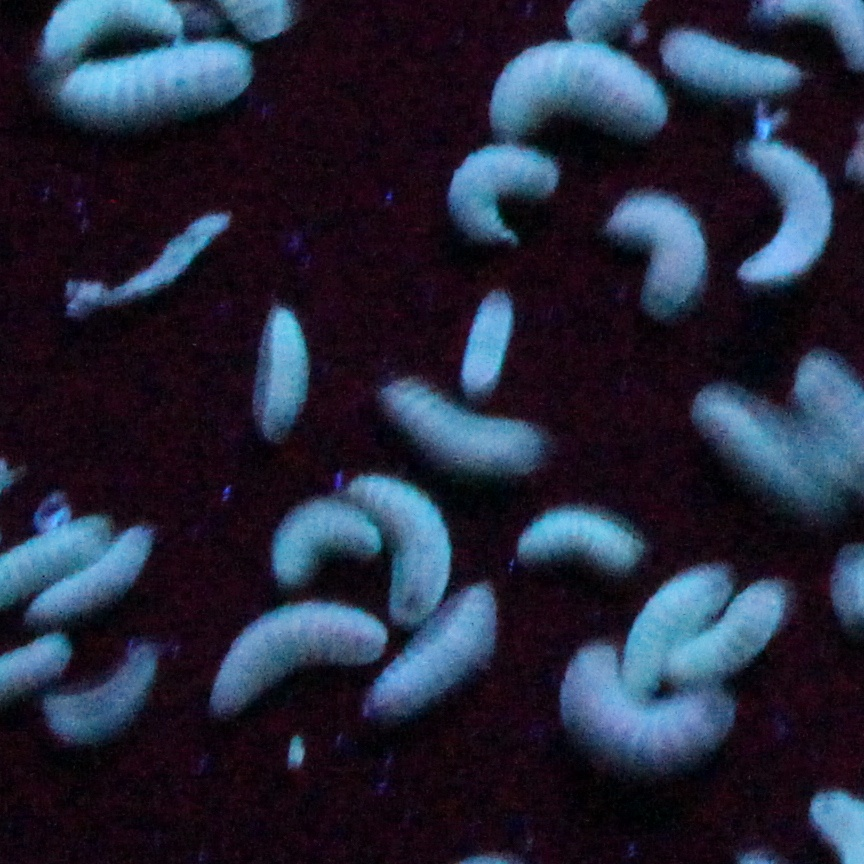larve: (556, 639, 738, 775), (692, 389, 842, 516), (213, 606, 386, 708), (488, 44, 677, 135), (56, 39, 256, 121), (381, 381, 550, 477), (373, 585, 502, 710), (623, 564, 736, 694), (350, 471, 444, 625), (740, 135, 833, 285), (667, 579, 790, 679), (29, 523, 156, 619), (615, 196, 711, 319), (444, 146, 558, 248), (46, 646, 161, 741), (665, 25, 804, 100), (515, 502, 646, 579), (277, 502, 379, 583), (461, 294, 517, 400), (256, 306, 302, 435)
